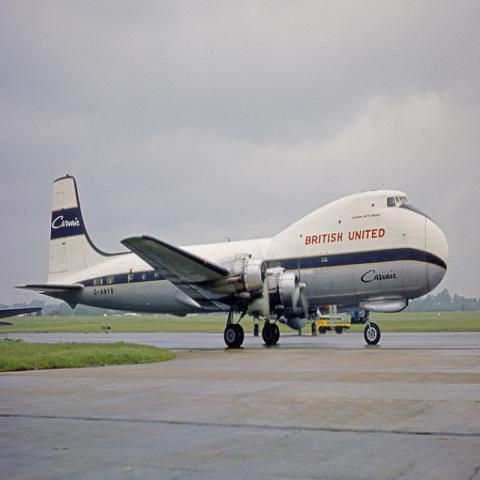truck: (316, 314, 350, 334)
